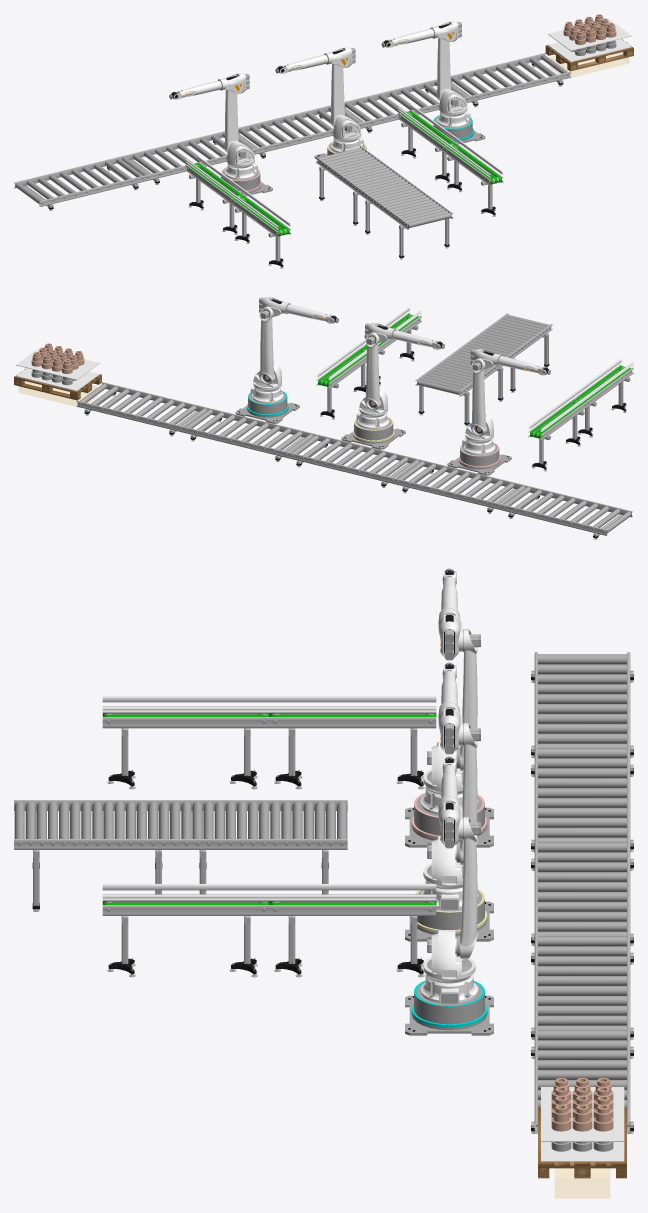
The picture shows the model from 3 angles, top to bottom: view 1: azimuth 30°, elevation 25°; view 2: azimuth 150°, elevation 25°; view 3: azimuth 270°, elevation 25°; orthographic projection. The views are drawn at different scales.
Visible parts, largest first — view 1: Mesh [07Cg], Mesh [0Aig], Mesh [03qg], Mesh [0C9g], Mesh [00fg], Mesh [0AVg], Mesh [0AIg], Mesh [03fg], Mesh [0Byg], Mesh [00Ug], Mesh [04Yg], Mesh [09xg] (+12 smaller); view 2: Mesh [07Dg], Mesh [04Zg], Mesh [091g], Mesh [0Ajg], Mesh [01Og], Mesh [00fg], Mesh [03qg], Mesh [0C9g], Mesh [0AVg], Mesh [0AIg], Mesh [0Bmg], Mesh [03Tg] (+13 smaller); view 3: Mesh [0AVg], Mesh [02fg], Mesh [029g], Mesh [07yg], Mesh [08Ug], Mesh [05Kg], Mesh [06Gg], Mesh [0Byg], Mesh [0Bmg], Mesh [0C9g], Mesh [09xg], Mesh [03fg] (+54 smaller).
Boxes of the visible parts, bbox=[...] form: Mesh [07Cg]: bbox=[39, 175, 146, 206]; Mesh [0Aig]: bbox=[464, 71, 571, 102]; Mesh [03qg]: bbox=[331, 64, 344, 115]; Mesh [0C9g]: bbox=[437, 38, 450, 89]; Mesh [00fg]: bbox=[225, 90, 238, 141]; Mesh [0AVg]: bbox=[548, 19, 631, 50]; Mesh [0AIg]: bbox=[548, 39, 631, 61]; Mesh [03fg]: bbox=[332, 115, 361, 141]; Mesh [0Byg]: bbox=[438, 89, 467, 115]; Mesh [00Ug]: bbox=[226, 141, 254, 167]; Mesh [04Yg]: bbox=[252, 123, 358, 154]; Mesh [09xg]: bbox=[551, 52, 628, 76]; Mesh [07Dg]: bbox=[500, 504, 607, 535]; Mesh [04Zg]: bbox=[288, 452, 395, 483]; Mesh [091g]: bbox=[182, 426, 289, 458]; Mesh [0Ajg]: bbox=[76, 400, 183, 432]; Mesh [01Og]: bbox=[394, 478, 501, 509]; Mesh [00fg]: bbox=[472, 371, 485, 424]; Mesh [03qg]: bbox=[366, 346, 379, 398]; Mesh [0C9g]: bbox=[260, 320, 273, 372]; Mesh [0AVg]: bbox=[16, 348, 99, 379]; Mesh [0AIg]: bbox=[16, 368, 99, 391]; Mesh [0Bmg]: bbox=[248, 391, 287, 414]; Mesh [03Tg]: bbox=[354, 417, 393, 440]; Mesh [0AVg]: bbox=[541, 1087, 624, 1141]; Mesh [02fg]: bbox=[102, 717, 269, 728]; Mesh [029g]: bbox=[269, 717, 436, 728]; Mesh [07yg]: bbox=[102, 905, 269, 915]; Mesh [08Ug]: bbox=[269, 905, 436, 915]; Mesh [05Kg]: bbox=[180, 839, 347, 849]; Mesh [06Gg]: bbox=[14, 839, 180, 849]; Mesh [0Byg]: bbox=[423, 929, 475, 982]; Mesh [0Bmg]: bbox=[414, 982, 484, 1024]; Mesh [0C9g]: bbox=[461, 842, 477, 936]; Mesh [09xg]: bbox=[555, 1169, 609, 1197]; Mesh [03fg]: bbox=[423, 836, 463, 888].
Bounding box in the file's own units: 11.21 × 2.04 × 5.58.
18 materials, 1 textured.
